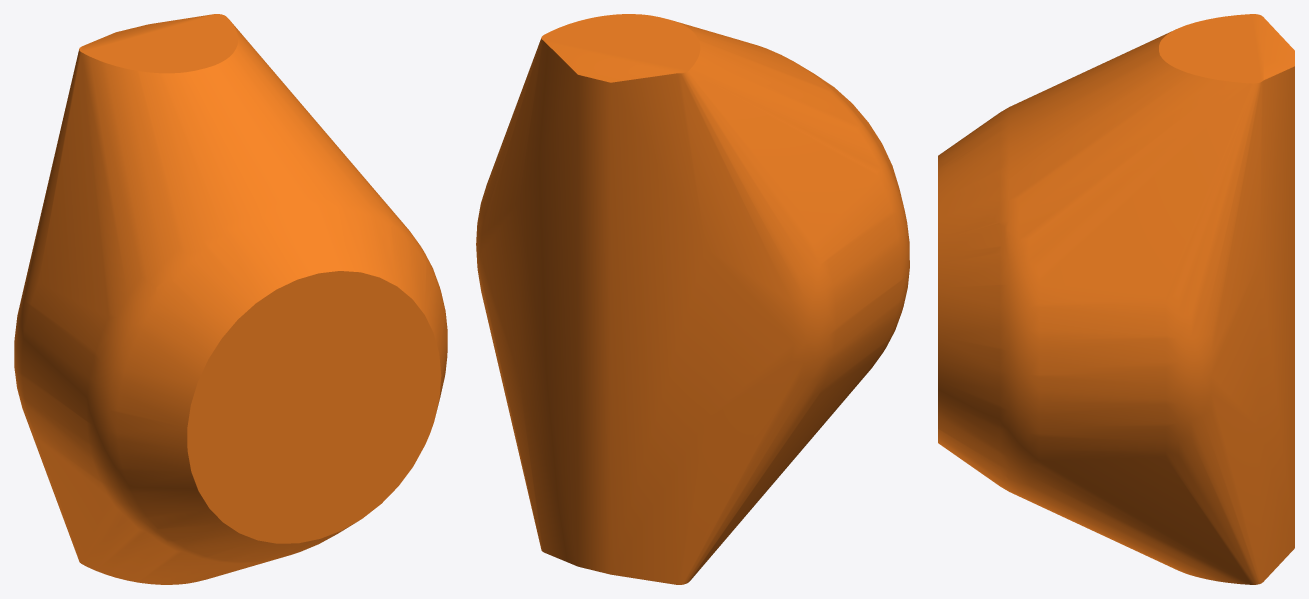
3 renders of one model, left to right at view 1: azimuth 30°, elevation 25°; view 2: azimuth 150°, elevation 25°; view 3: azimuth 270°, elevation 25°, orthographic. The views are drawn at different scales.
Parts seen in each view (by area): view 1: gripper_frame; view 2: gripper_frame; view 3: gripper_frame.
Boxes of the visible parts, box(x1,y1,x2,y2) form: gripper_frame: box(14, 14, 447, 584); gripper_frame: box(476, 14, 909, 584); gripper_frame: box(938, 14, 1294, 584).
Bounding box in the file's own units: 0.075 × 0.104 × 0.0671.
